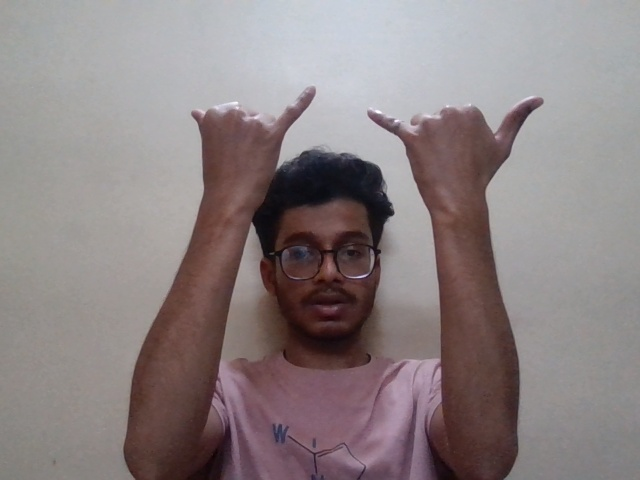today: (176, 87, 557, 237)
